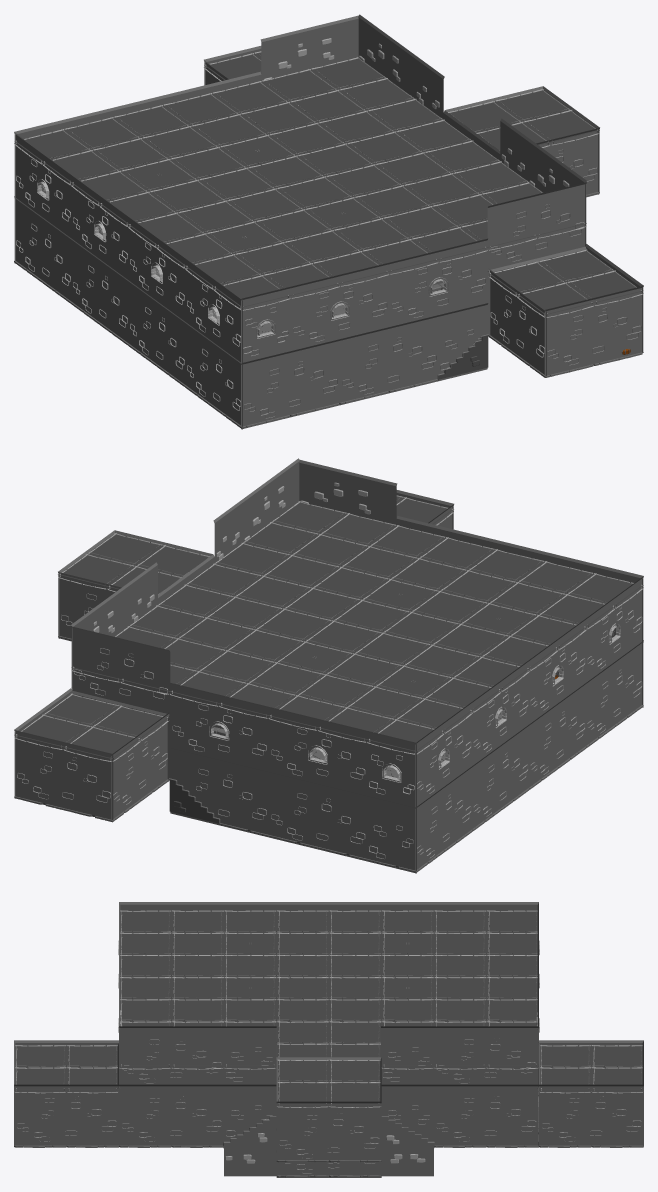
File: Msh_LowPolyDungeon.gltf
3 views of the same model, one above another, from view 1: azimuth 30°, elevation 25°; view 2: azimuth 150°, elevation 25°; view 3: azimuth 270°, elevation 25° (orthographic). The views are drawn at different scales.
Visible parts, largest first — view 1: Dungeon_Big_Wall.013, Dungeon_Big_Wall.024, Dungeon_Big_Wall.022, Dungeon_Big_Wall.023, Dungeon_Big_Window.006, Dungeon_Big_Window.007, Dungeon_Big_Wall.002, Dungeon_Big_Wall.011, Dungeon_Big_Wall.029, Dungeon_Big_Wall.030, Dungeon_Big_Wall.017, Dungeon_Big_Window.002 (+80 smaller); view 2: Dungeon_Big_Wall.009, Dungeon_Big_Wall.001, Dungeon_Big_Wall.002, Dungeon_Big_Window.001, Dungeon_Big_Window.008, Dungeon_Big_Wall, Dungeon_Big_Wall.022, Dungeon_Big_Wall.008, Dungeon_Big_Wall.031, Dungeon_Big_Wall.030, Dungeon_Big_Wall.029, Dungeon_Big_Window.004 (+80 smaller); view 3: Dungeon_Big_Wall.019, Dungeon_Big_Wall.012, Dungeon_Big_Wall.018, Dungeon_Big_Wall.010, Dungeon_Big_Wall.015, Dungeon_Big_Wall.021, Dungeon_Big_Wall.020, Dungeon_Wall_Var1.009, Dungeon_Wall_Var1.007, Stairs_High.002, Stairs_High.003, Dungeon_Wall_Var1.010 (+64 smaller).
Boxes of the visible parts, <box> form: Dungeon_Big_Wall.013: <box>544,286,643,375</box>; Dungeon_Big_Wall.024: <box>339,315,438,405</box>; Dungeon_Big_Wall.022: <box>487,182,586,272</box>; Dungeon_Big_Wall.023: <box>241,339,340,429</box>; Dungeon_Big_Window.006: <box>290,262,389,351</box>; Dungeon_Big_Window.007: <box>389,238,487,326</box>; Dungeon_Big_Wall.002: <box>260,15,358,80</box>; Dungeon_Big_Wall.011: <box>488,268,546,375</box>; Dungeon_Big_Wall.029: <box>71,238,128,343</box>; Dungeon_Big_Wall.030: <box>128,280,185,384</box>; Dungeon_Big_Wall.017: <box>15,197,72,301</box>; Dungeon_Big_Window.002: <box>14,132,72,238</box>; Dungeon_Big_Wall.009: <box>14,730,113,819</box>; Dungeon_Big_Wall.001: <box>268,771,367,861</box>; Dungeon_Big_Wall.002: <box>71,626,170,715</box>; Dungeon_Big_Window.001: <box>268,706,367,795</box>; Dungeon_Big_Window.008: <box>170,682,268,771</box>; Dungeon_Big_Wall: <box>169,747,268,837</box>; Dungeon_Big_Wall.022: <box>299,459,397,524</box>; Dungeon_Big_Wall.008: <box>111,713,168,819</box>; Dungeon_Big_Wall.031: <box>585,641,642,745</box>; Dungeon_Big_Wall.030: <box>529,682,586,787</box>; Dungeon_Big_Wall.029: <box>472,724,529,828</box>; Dungeon_Big_Window.004: <box>529,618,586,724</box>; Dungeon_Big_Wall.019: <box>433,1084,538,1145</box>; Dungeon_Big_Wall.012: <box>14,1084,118,1145</box>; Dungeon_Big_Wall.018: <box>119,1084,223,1145</box>; Dungeon_Big_Wall.010: <box>539,1084,643,1145</box>; Dungeon_Big_Wall.015: <box>276,1101,381,1162</box>; Dungeon_Big_Wall.021: <box>433,1026,538,1087</box>; Dungeon_Big_Wall.020: <box>119,1026,223,1087</box>; Dungeon_Wall_Var1.009: <box>224,1026,276,1087</box>; Dungeon_Wall_Var1.007: <box>381,1026,433,1087</box>; Stairs_High.002: <box>223,1116,276,1176</box>; Stairs_High.003: <box>381,1116,434,1176</box>; Dungeon_Wall_Var1.010: <box>224,1084,276,1141</box>.
Size of what is drawn, in the model's own units: 36.07 by 12.78 by 48.01.
Materials: 3 (3 with a texture image).
